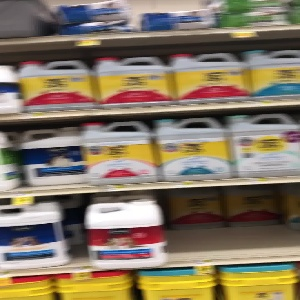void: (163, 185, 300, 263)
